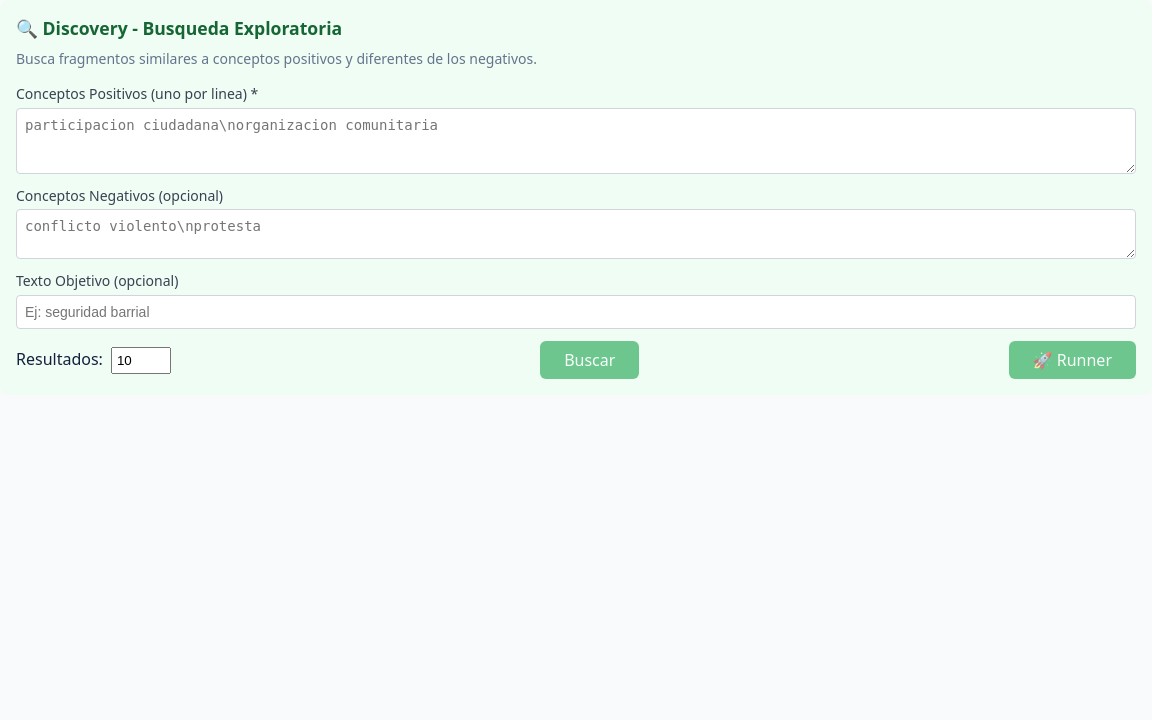
Scenario: DiscoveryPanel › performs search with positive concepts
Step 1. Type "participación comunitaria" into the text box labelled "Conceptos Positivos (uno por linea) *" → (576, 141), box left=16, top=108, right=1136, bottom=174
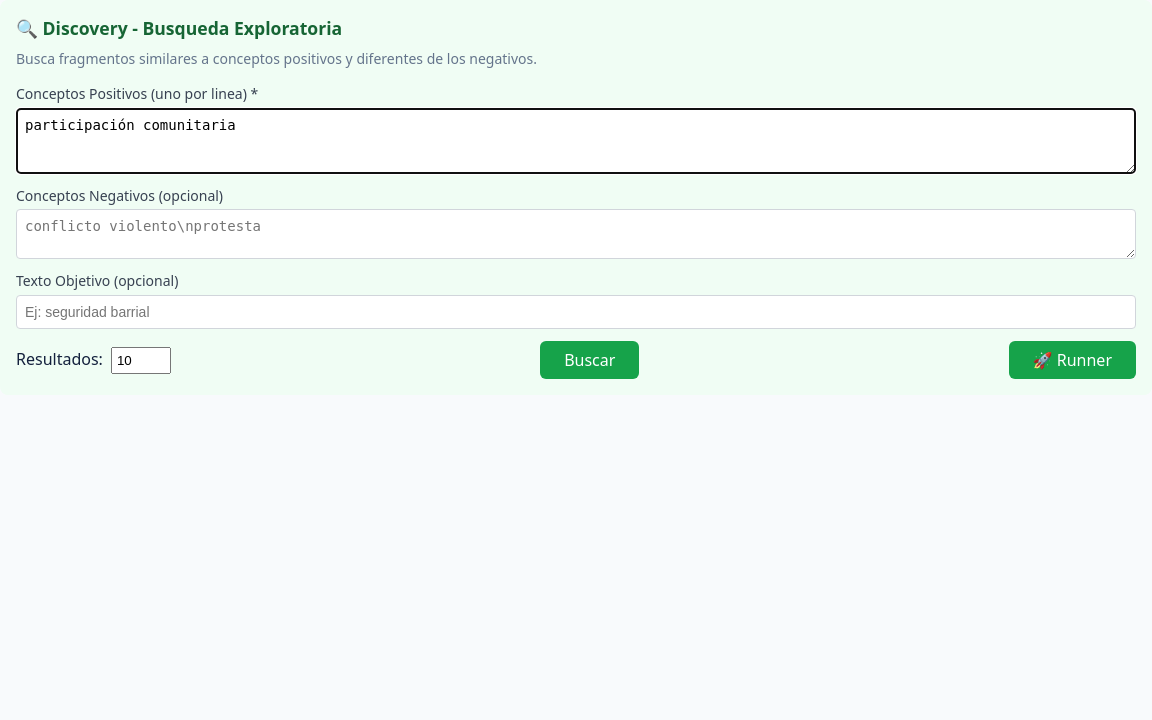
Step 2. Click the button "Buscar" → (590, 360), box left=540, top=341, right=639, bottom=379
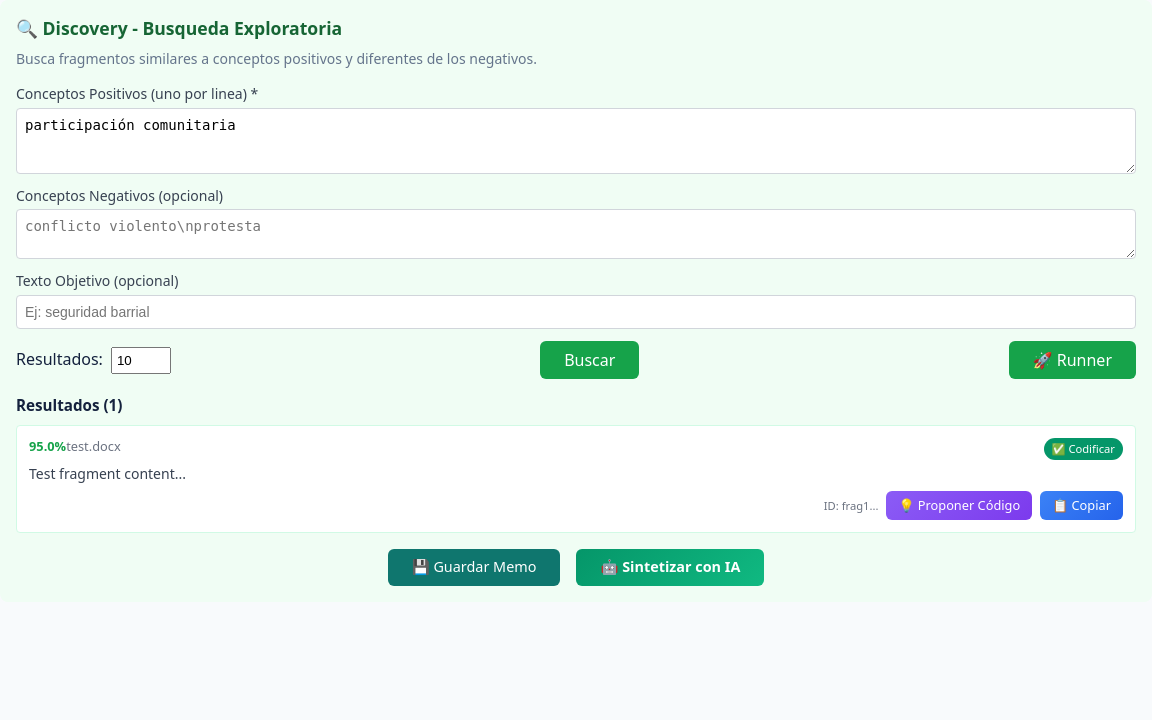
Expected: the text "Test fragment content..." is shown, left=29, top=464, right=186, bottom=483
